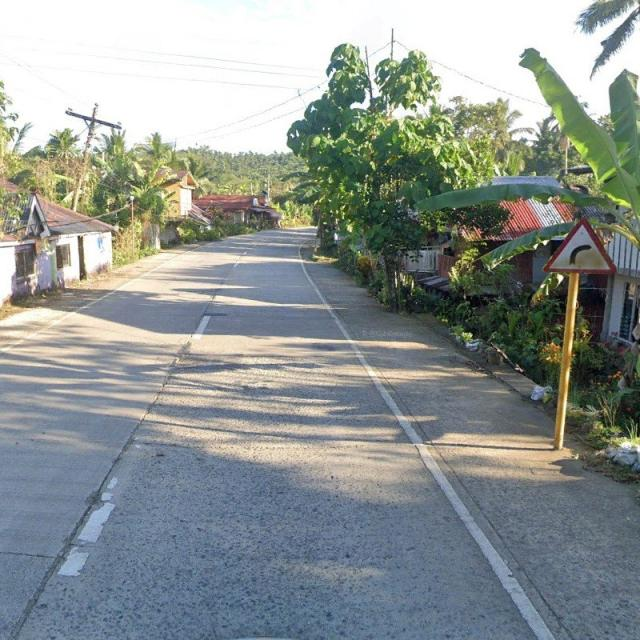warn_right_curve: (543, 217, 617, 273)
